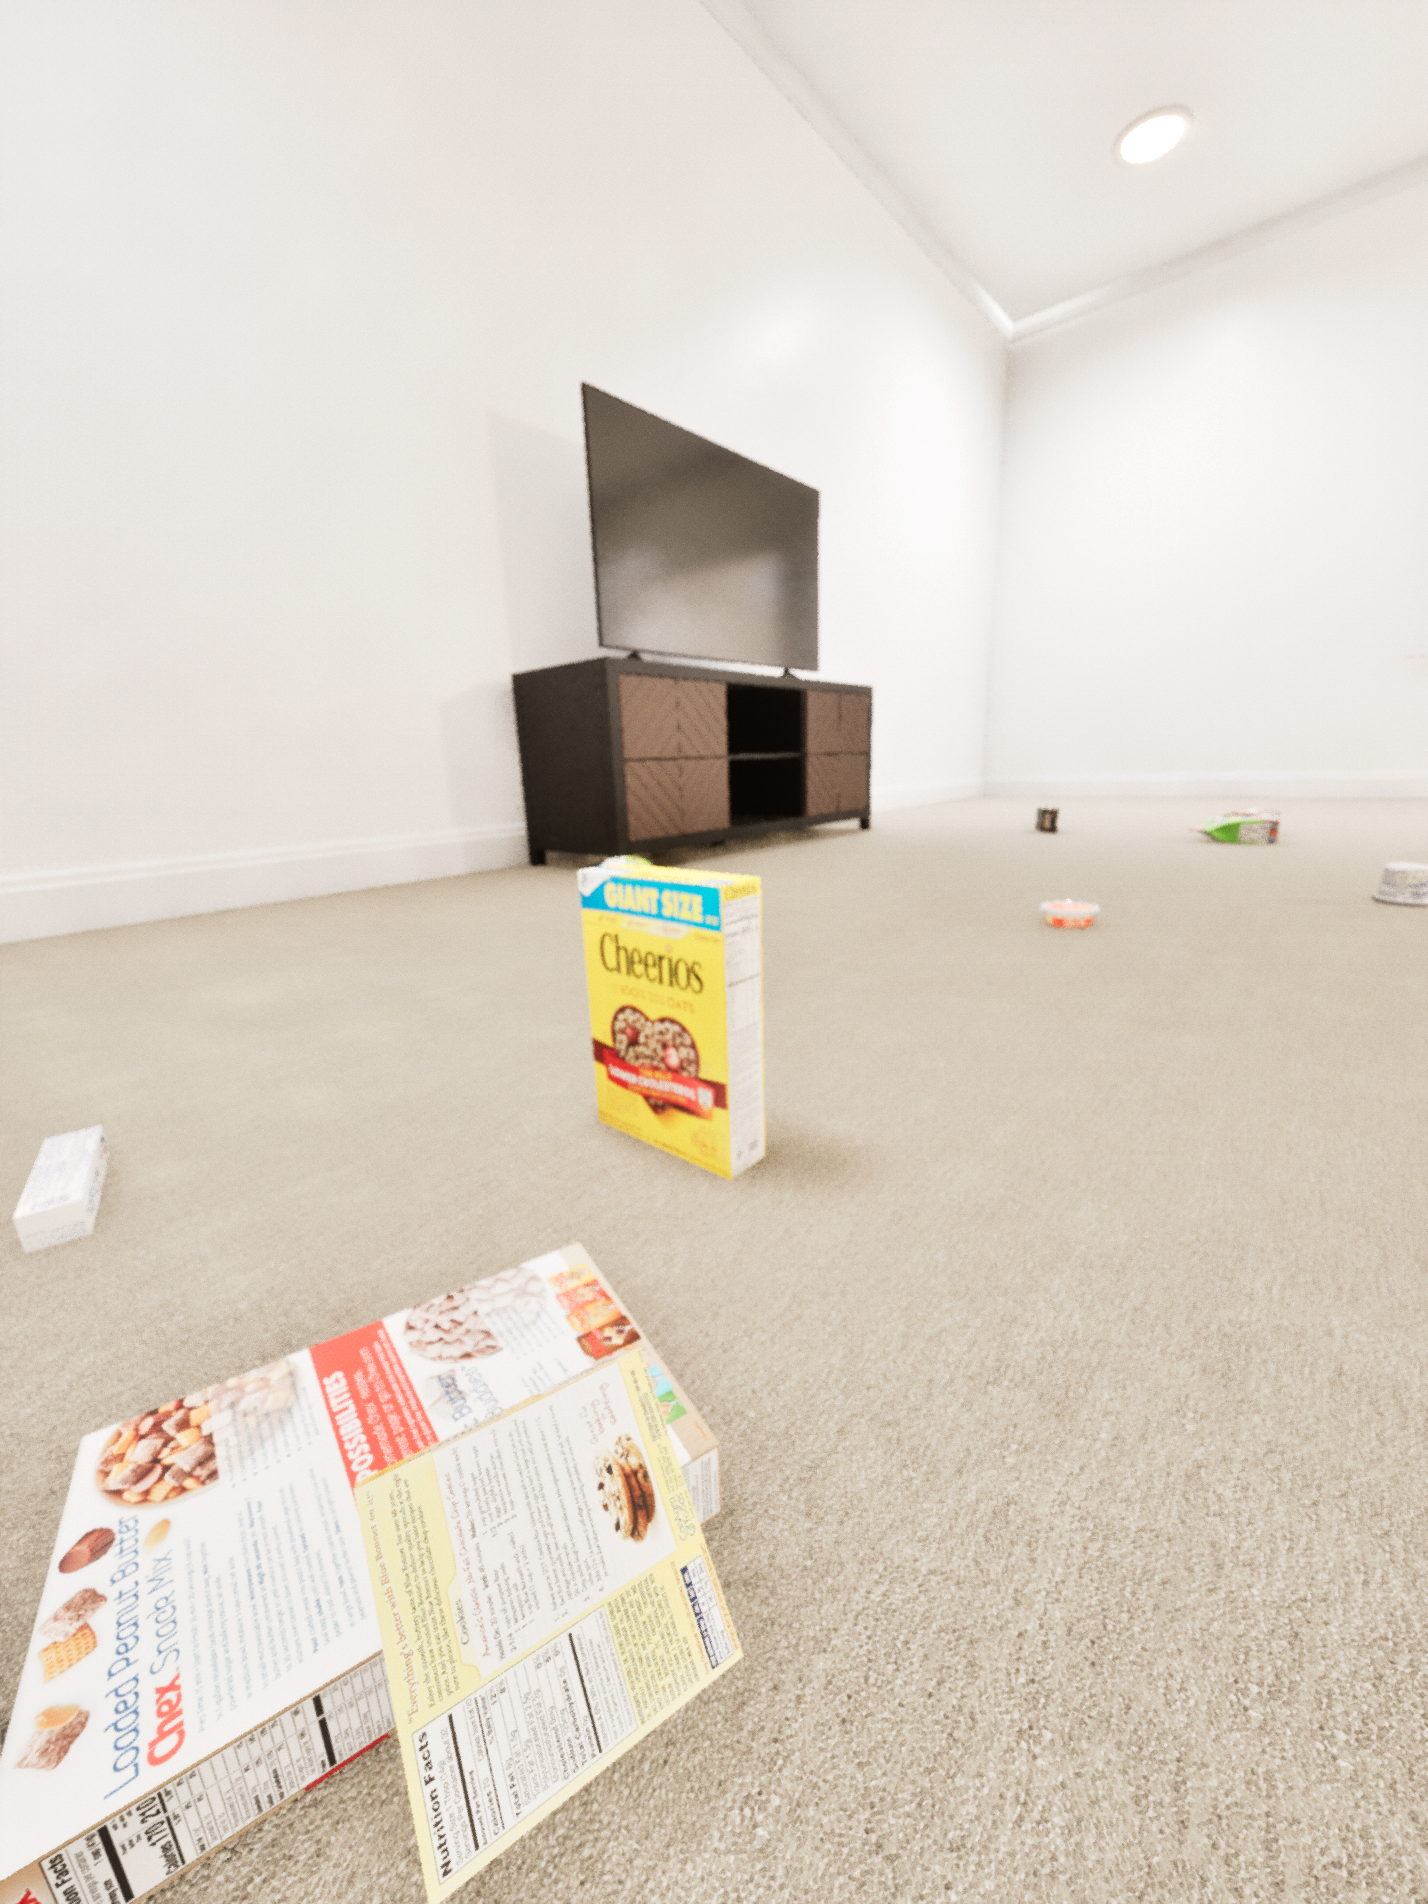cheerios: (577, 864, 765, 1180)
